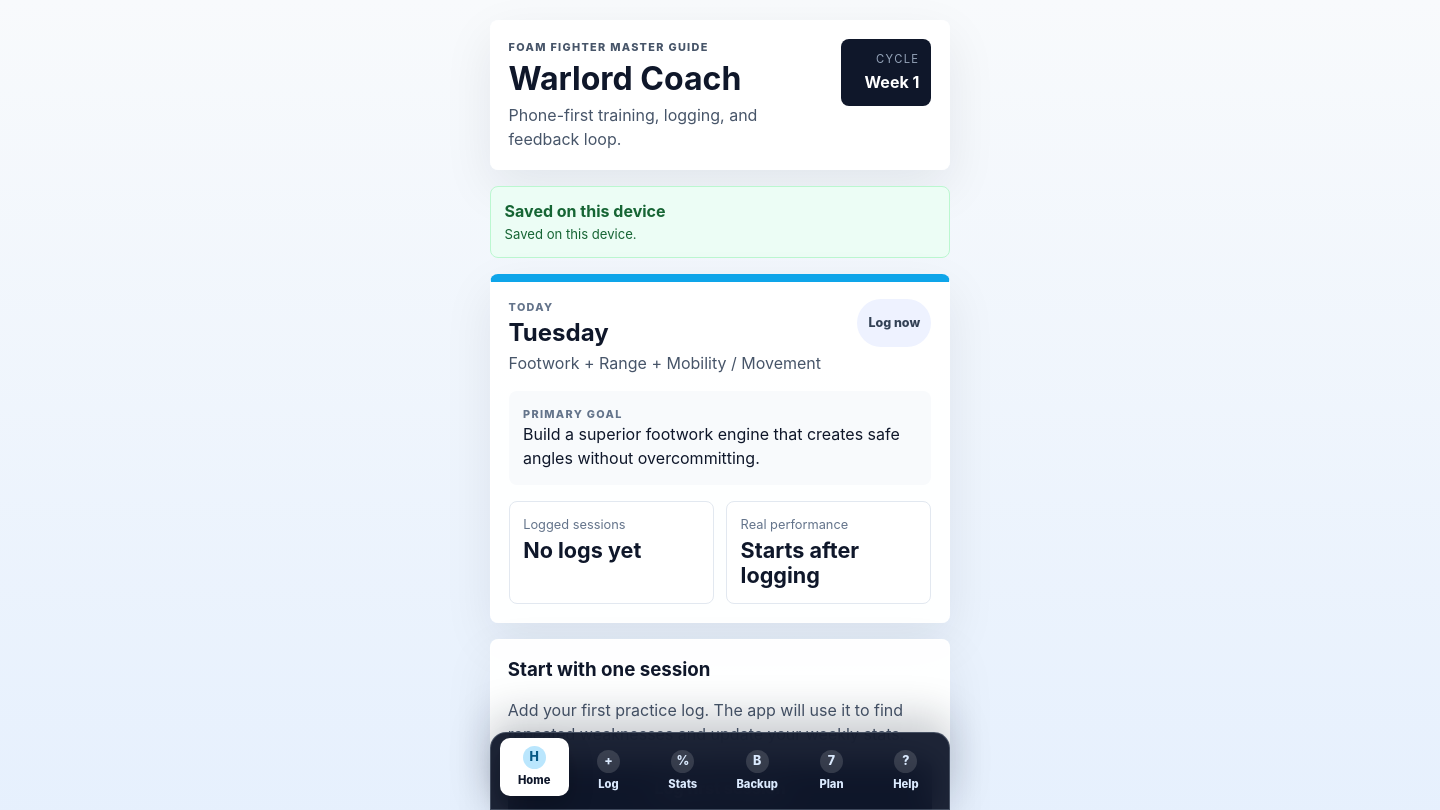
app smoke and session logging flows › creates a log and persists it to localStorage
Click the button "+ Log". click: (608, 771)
box: [574, 742, 643, 800]
(page scrolled)
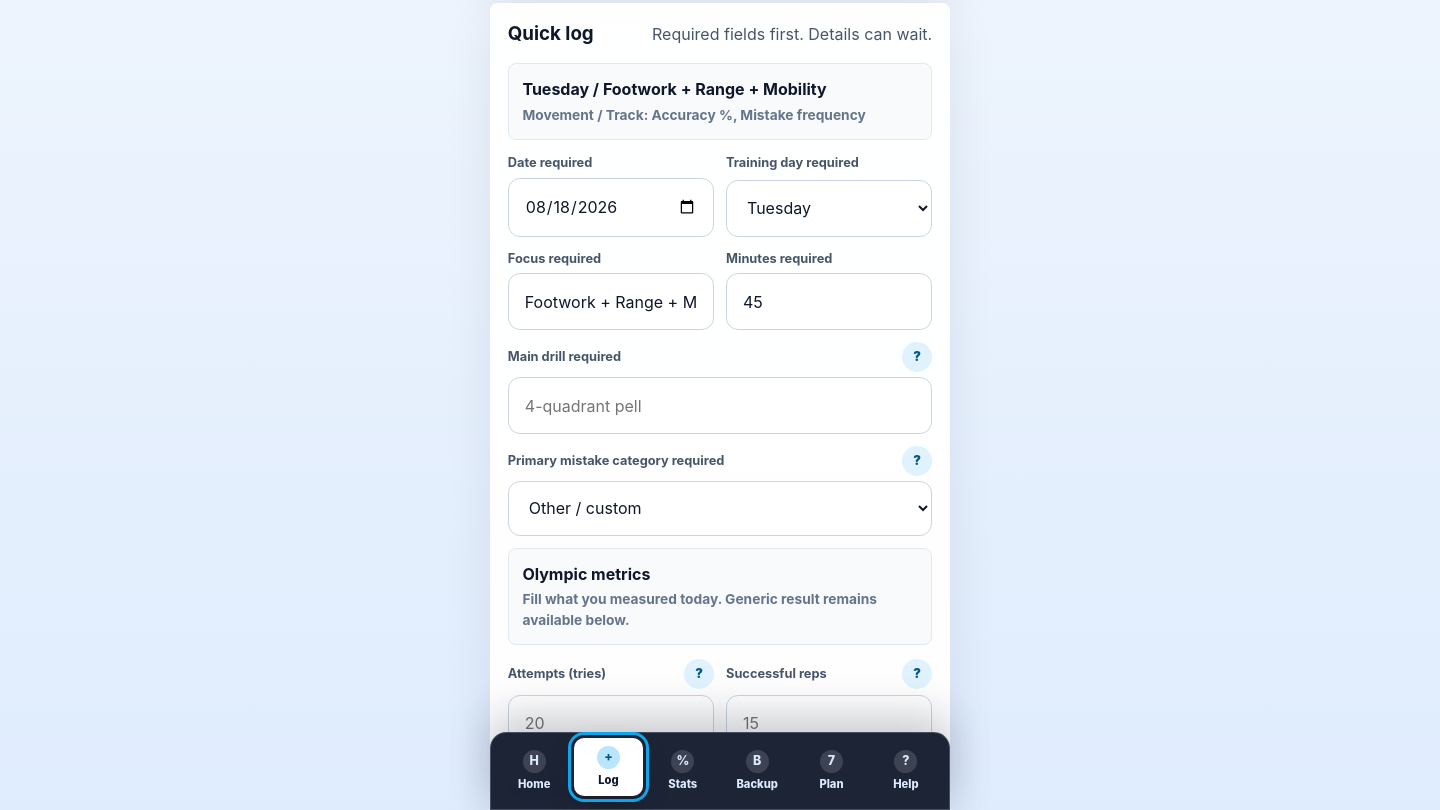
Type "Shield side entries" into the field labelled "Main drill required". click: (720, 406)
box: [508, 377, 932, 434]
(page scrolled)
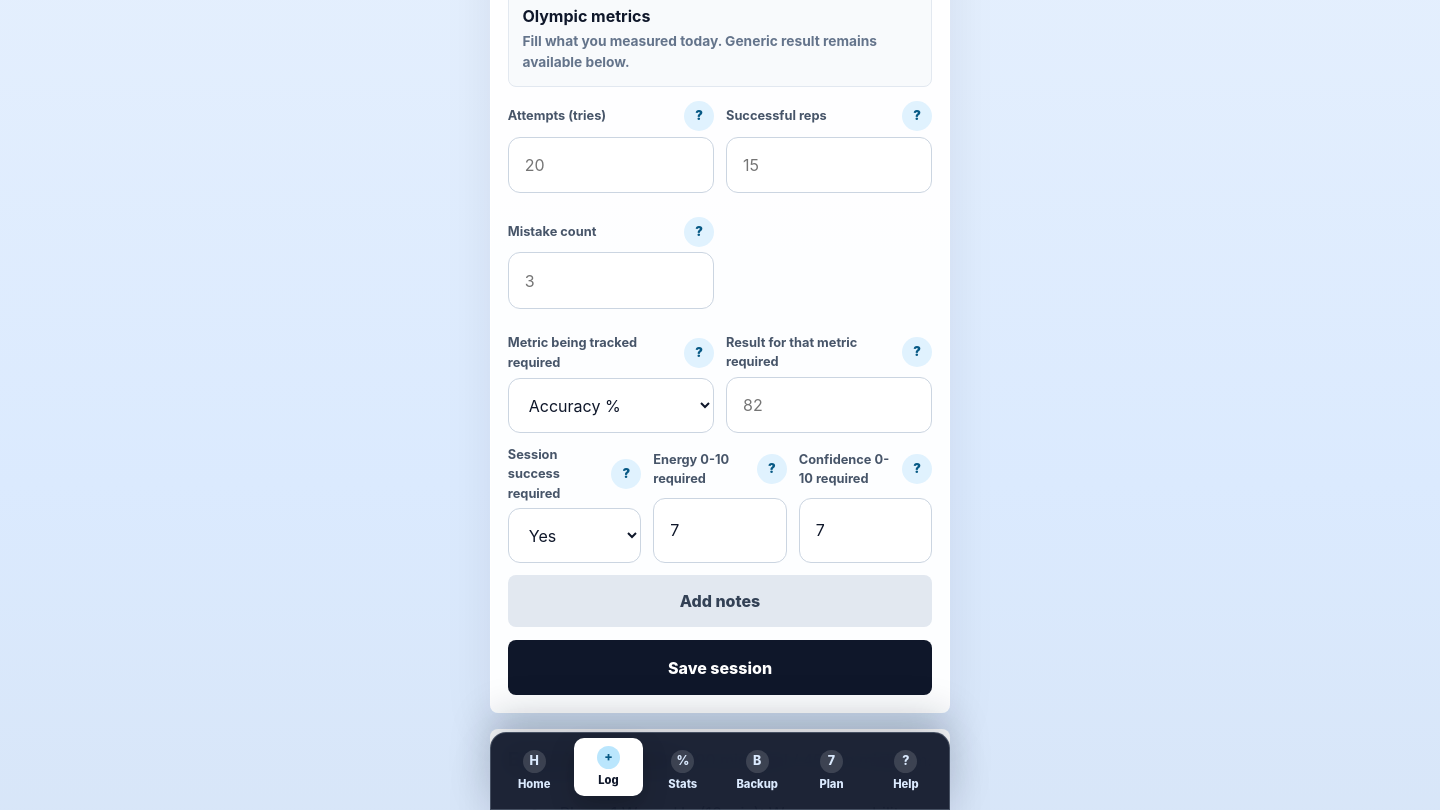
Type "84" into the field named "Result required". click: (829, 405)
box: [726, 377, 932, 433]
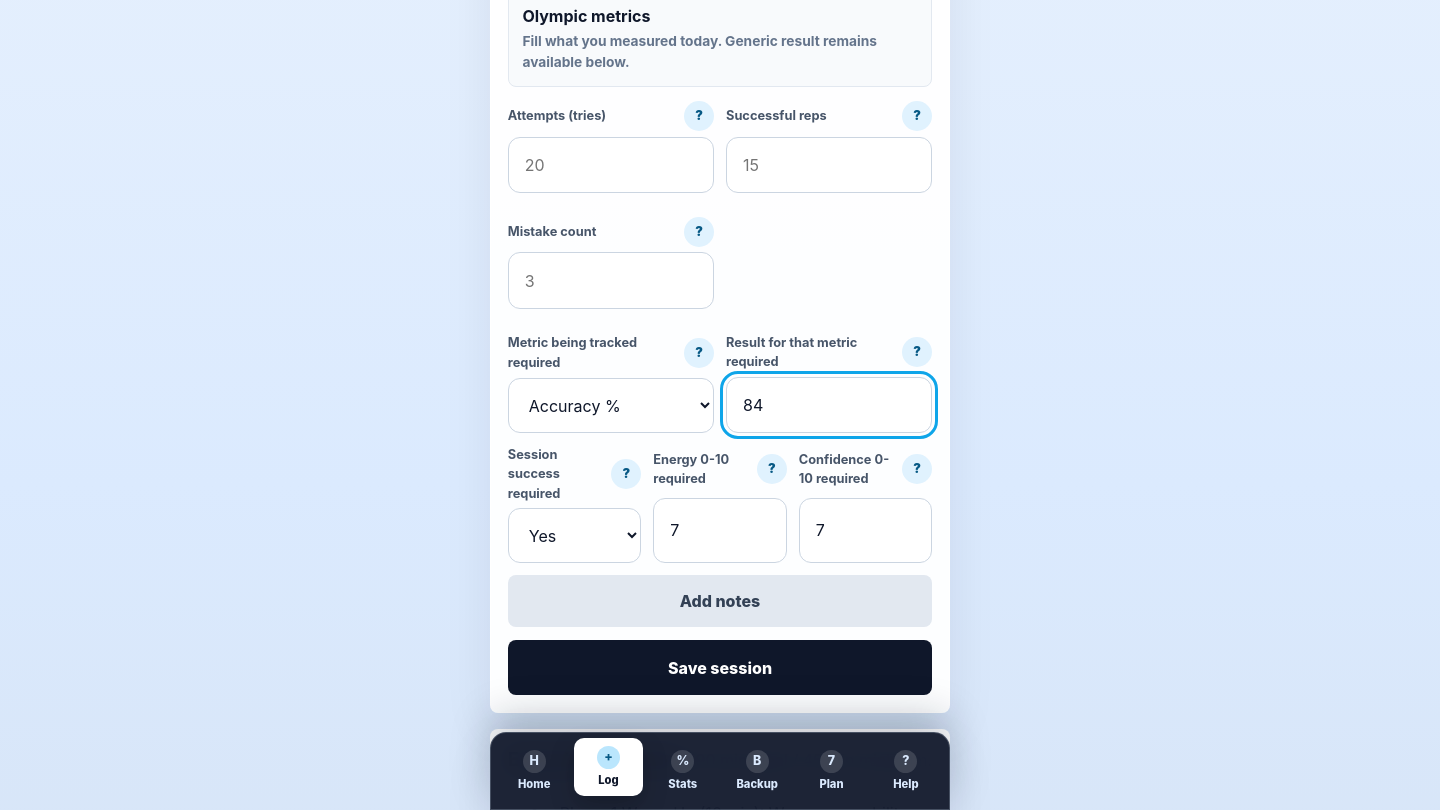
Click the button "Save session". click: (720, 668)
box: [508, 640, 932, 695]
(page scrolled)
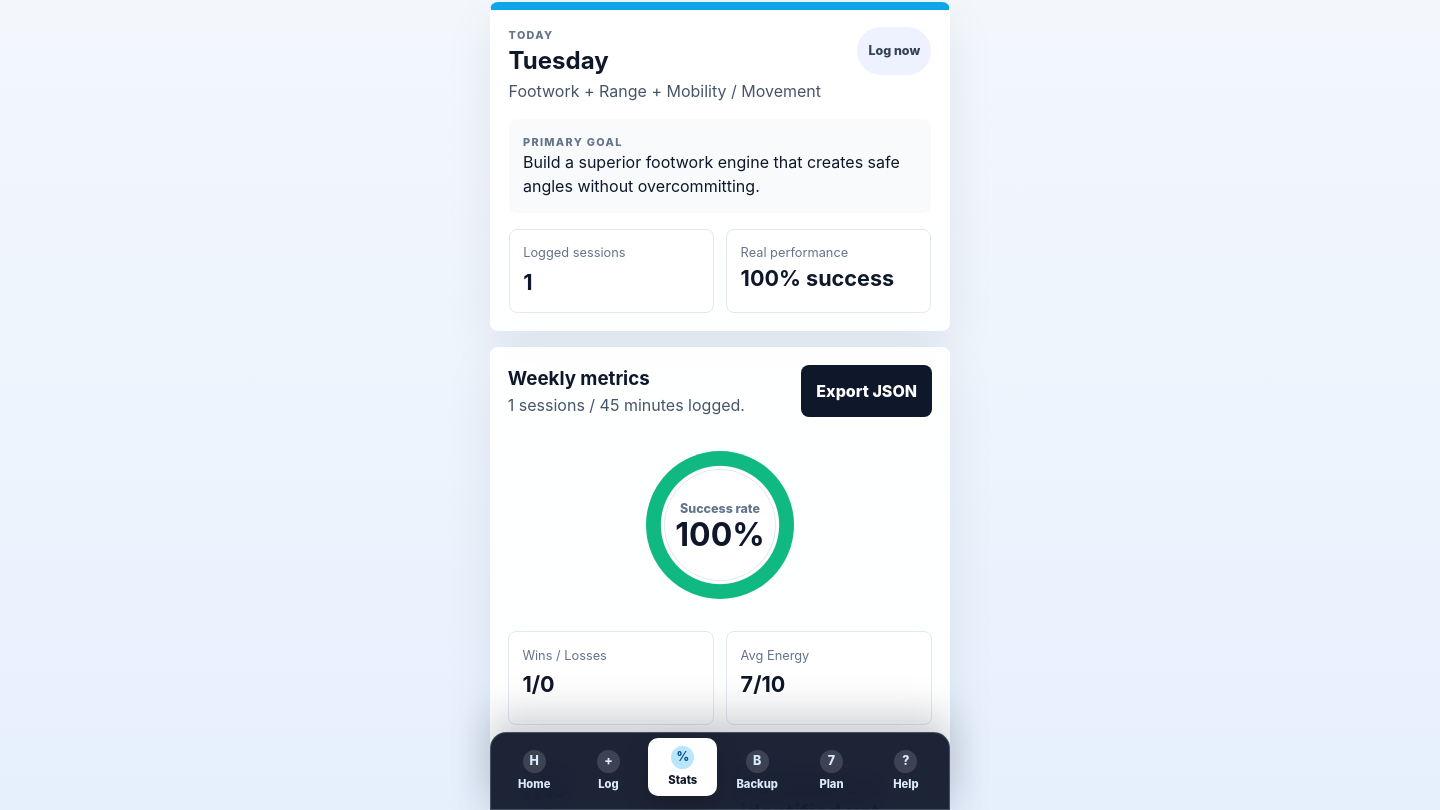
Expected: the text "1 sessions / 45 minutes logged." is shown, [508, 395, 745, 415]
